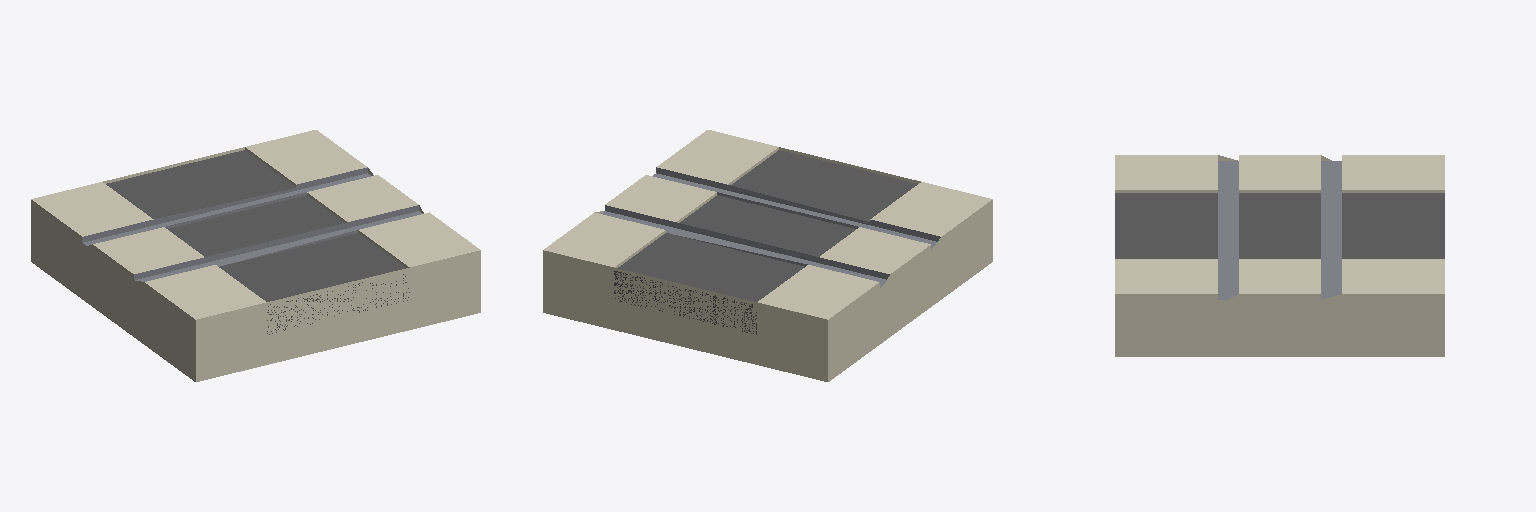
Rendered from roadTile_106.obj.
3 views of the same model, side by side, from view 1: azimuth 30°, elevation 25°; view 2: azimuth 150°, elevation 25°; view 3: azimuth 270°, elevation 25° (orthographic).
Visible parts, largest first — view 1: Mesh1 Group1 Model; view 2: Mesh1 Group1 Model; view 3: Mesh1 Group1 Model.
Boxes of the visible parts, x1=… form: Mesh1 Group1 Model: x1=31, y1=130, x2=480, y2=381; Mesh1 Group1 Model: x1=543, y1=130, x2=992, y2=381; Mesh1 Group1 Model: x1=1115, y1=155, x2=1444, y2=356.
Size of the model in its own units: 3 by 0.63 by 3.